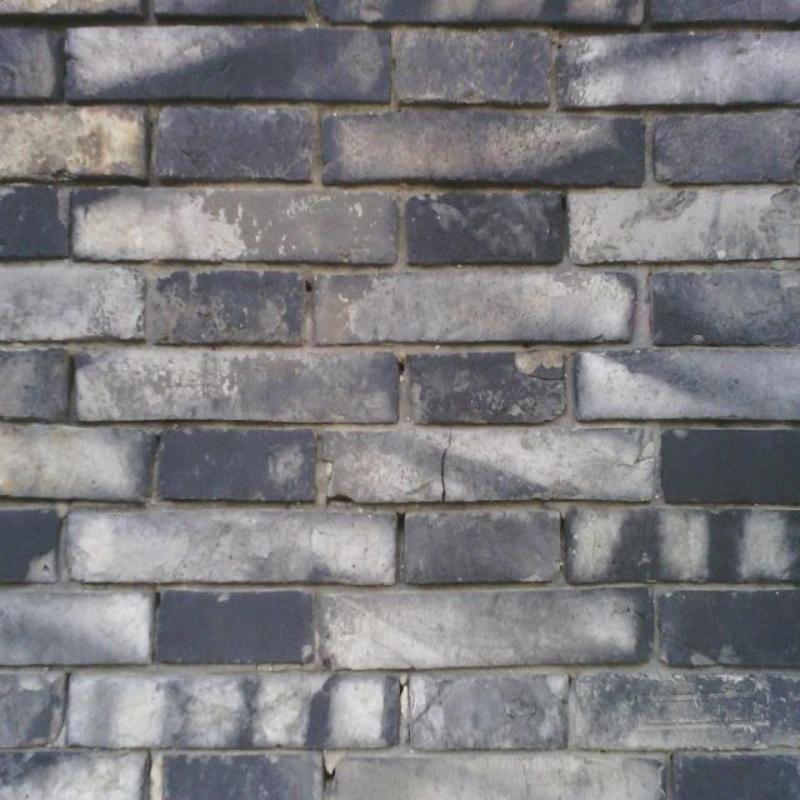crack: (441, 429, 452, 502), (541, 500, 564, 529), (321, 756, 336, 789), (528, 374, 566, 381), (398, 679, 410, 699), (396, 512, 405, 532), (154, 592, 161, 610), (399, 362, 405, 374), (305, 281, 311, 291)
